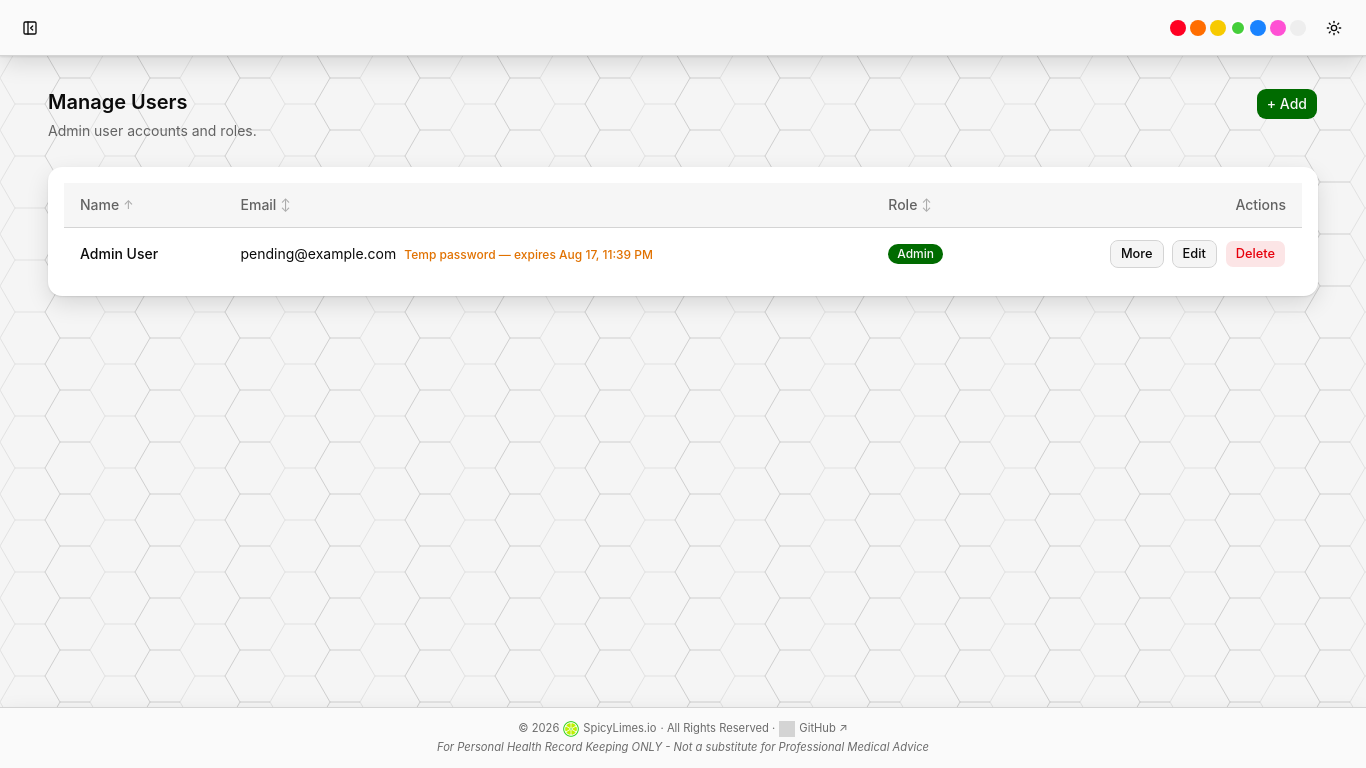
UsersPage › shows only the reset modal while it is open, and restores the edit modal on cancel
The image size is (1366, 768).
Click the button "Edit".
click(1194, 254)  # box [1172, 240, 1217, 268]
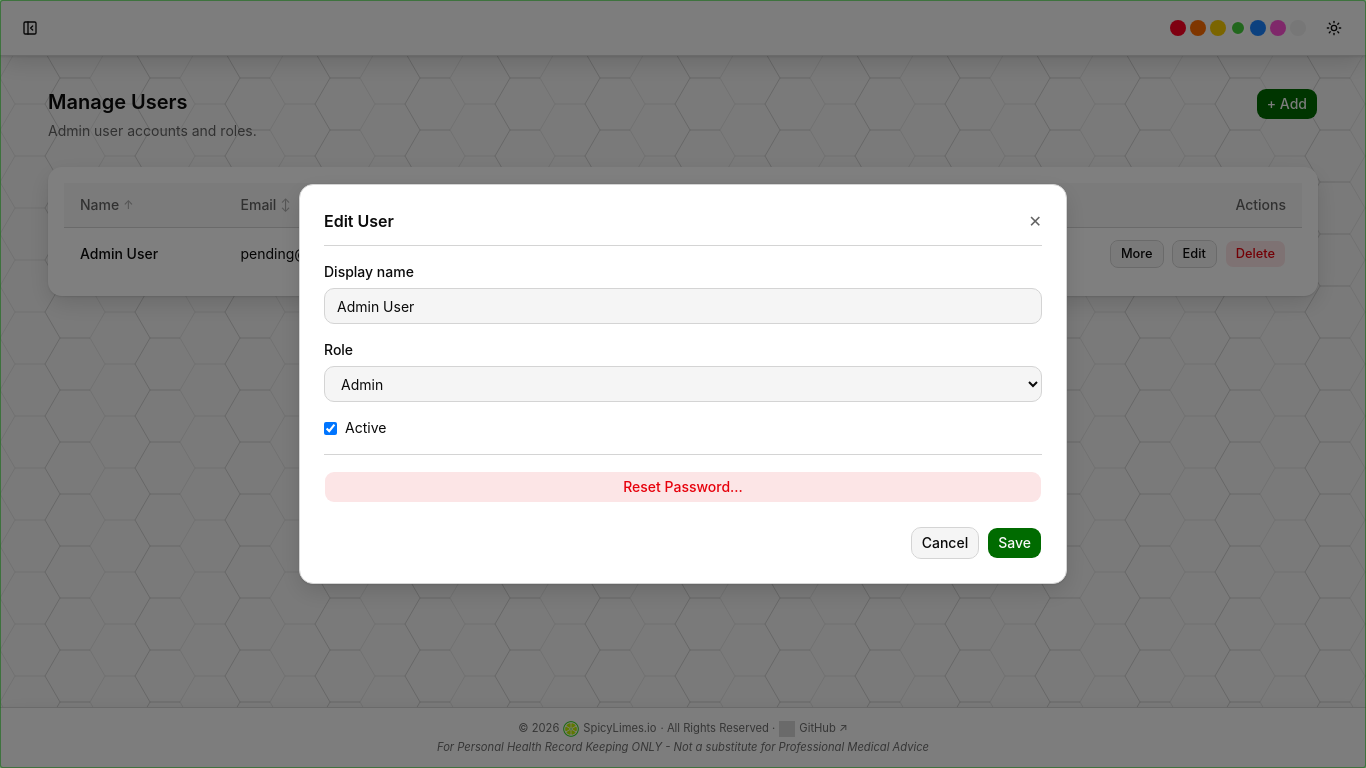
Click the button "Reset Password…".
click(683, 487)  # box [324, 471, 1042, 503]
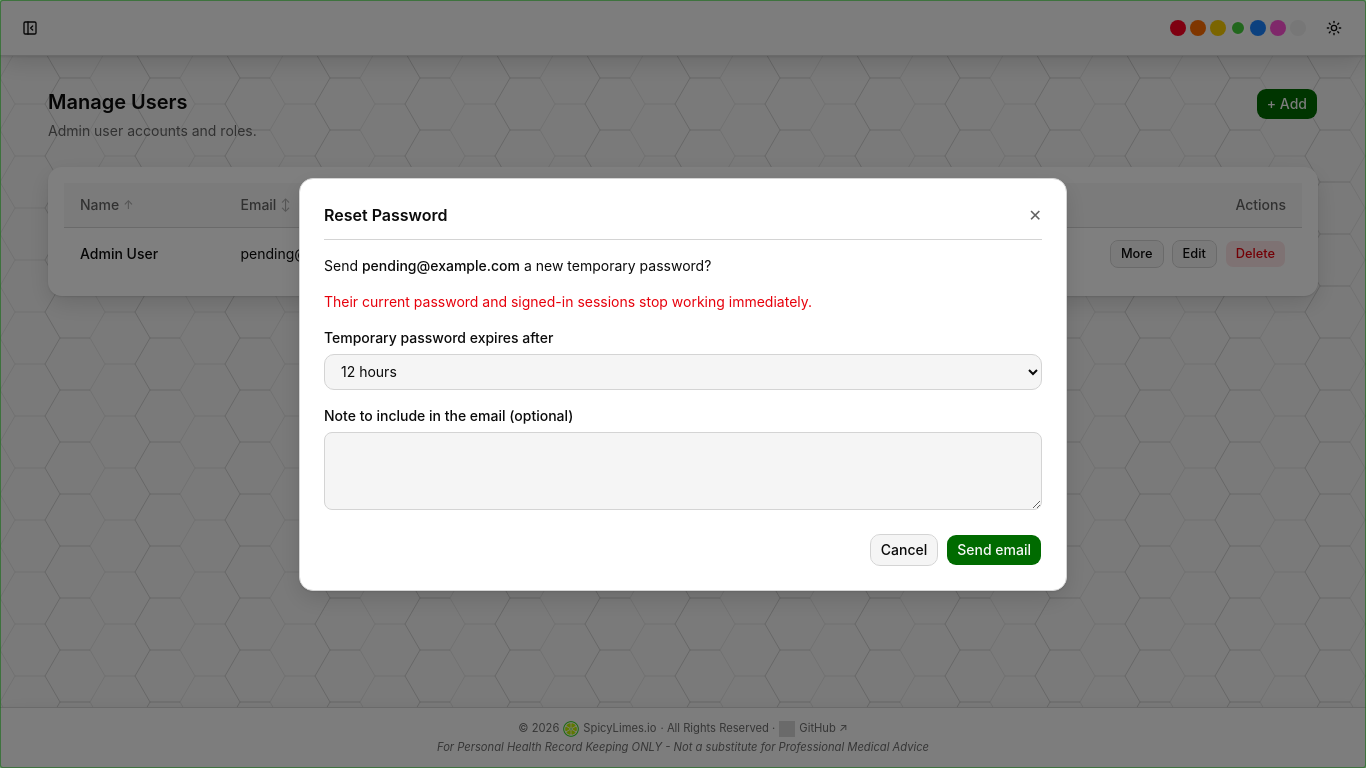
Check: the heading "Edit User" is gone
Check: the heading "Reset Password" is shown, box [324, 202, 448, 226]
Click the button "Cancel".
click(904, 550)  # box [870, 534, 938, 566]
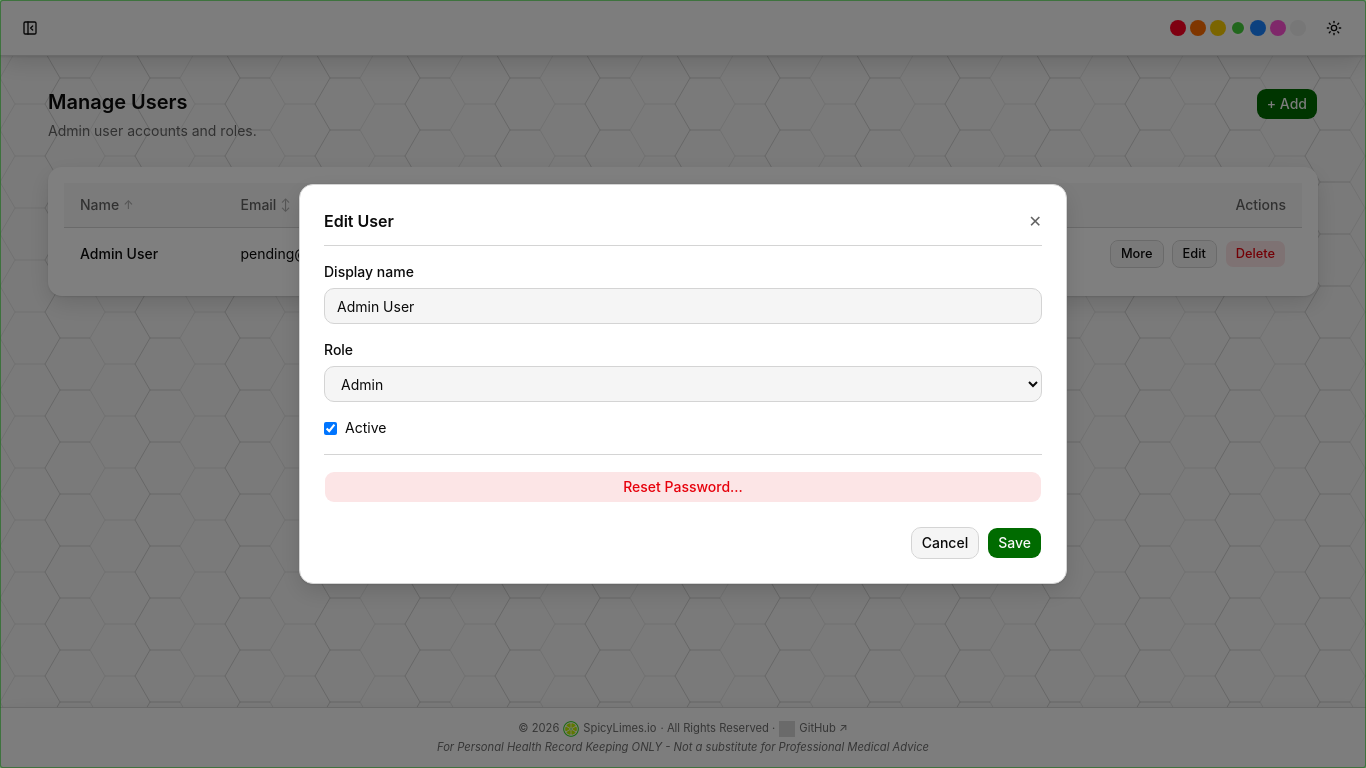
Check: the heading "Edit User" is shown, box [324, 209, 394, 233]
